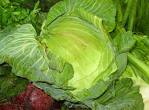cabbage: (33, 10, 117, 103)
